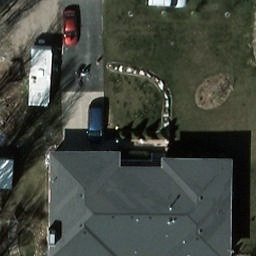camping car: (26, 39, 53, 108)
car: (86, 105, 105, 147), (63, 10, 80, 46)
